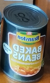beans: (2, 3, 49, 83)
